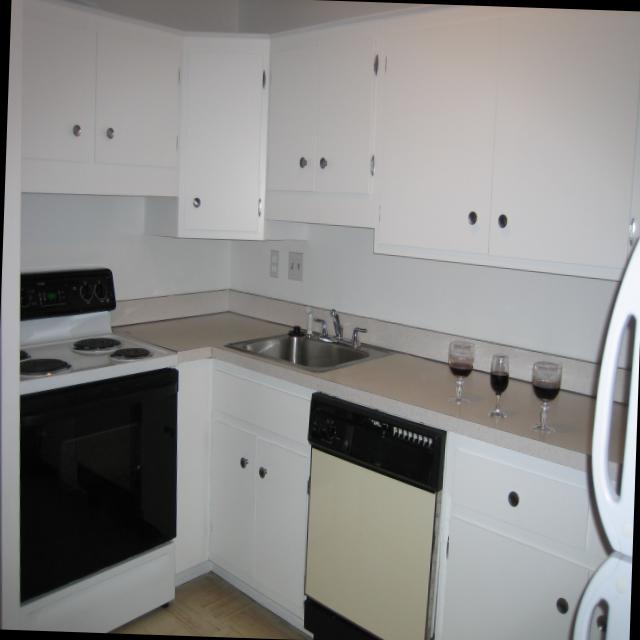double gang light switch: (285, 252, 302, 284)
duplex wall receptical: (268, 249, 277, 280)
electric range: (19, 269, 177, 631)
glass orb: (443, 341, 476, 409), (532, 362, 560, 432)
stainless steel kitchen sink: (224, 306, 394, 376)
undersounter dishwasher: (303, 393, 445, 640)
upper kitchen cupboard: (372, 8, 640, 282), (22, 0, 178, 201), (267, 16, 382, 230), (175, 37, 266, 239)
